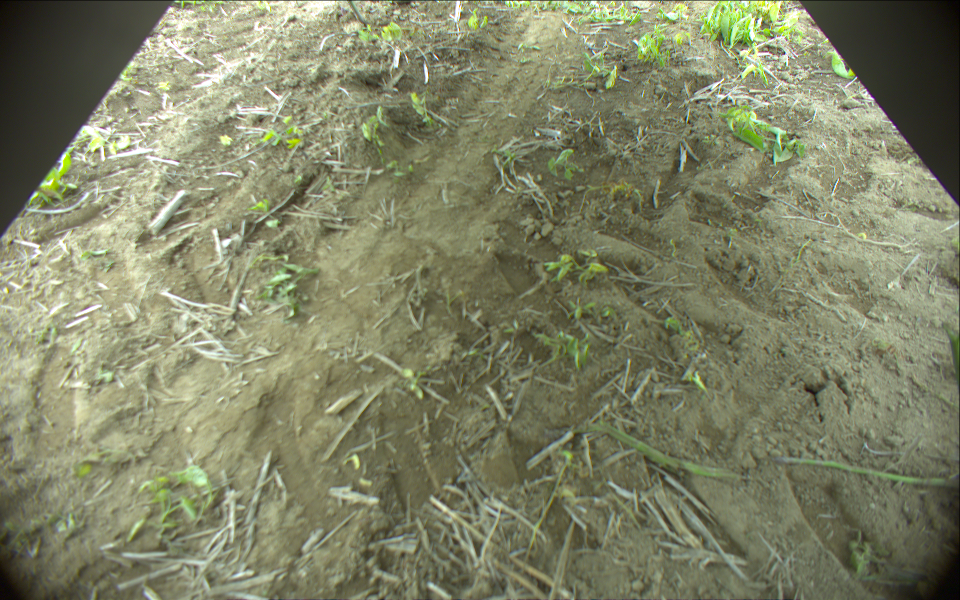aspa: (589, 422, 746, 484), (778, 455, 960, 488)
